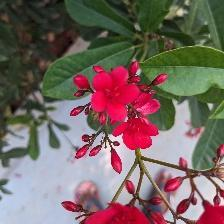jatropha: (92, 66, 140, 124)
